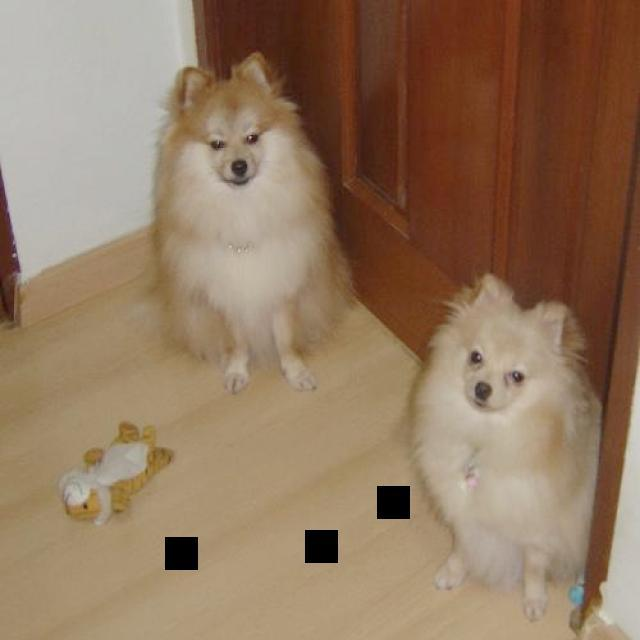adult_dog: (115, 47, 346, 398), (400, 268, 603, 623)
